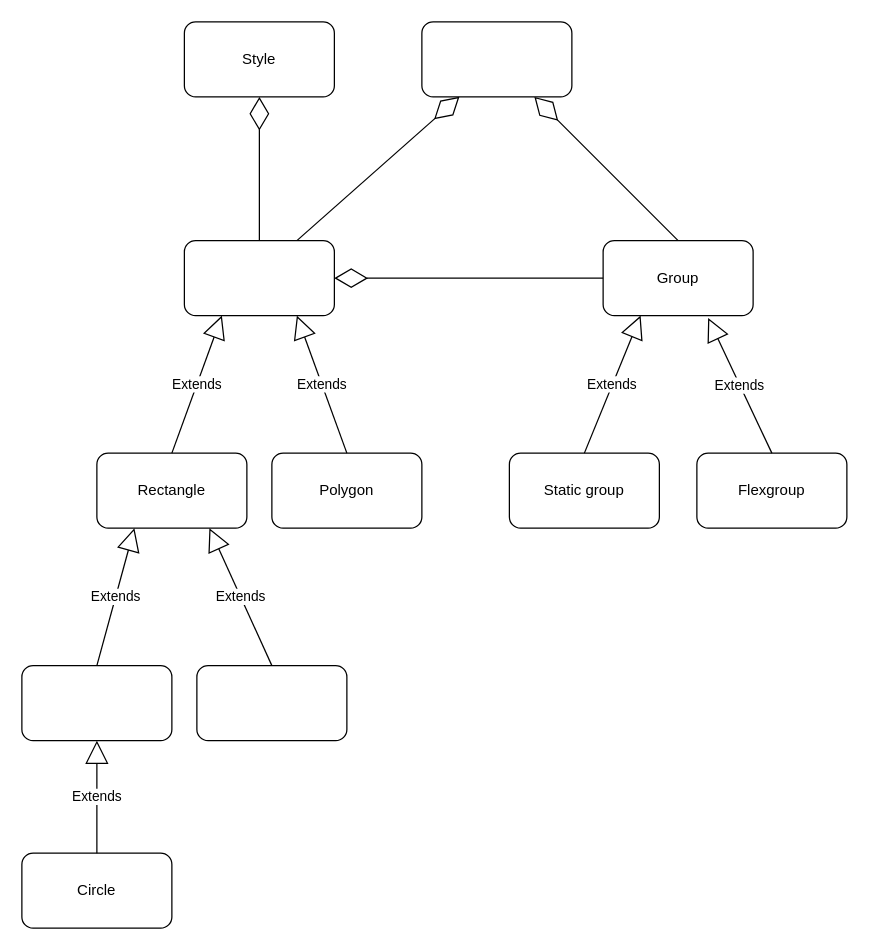
Some shapes in this 869 by 950 pixel diagram are drawn without their labels. The centre of each missing label's shape, as x and y in pixels:
"2D Position" belongs at (x=496, y=59).
"Ellipse" belongs at (x=96, y=702).
"Shape (base)" belongs at (x=258, y=277).
"Square" belongs at (x=271, y=702).
